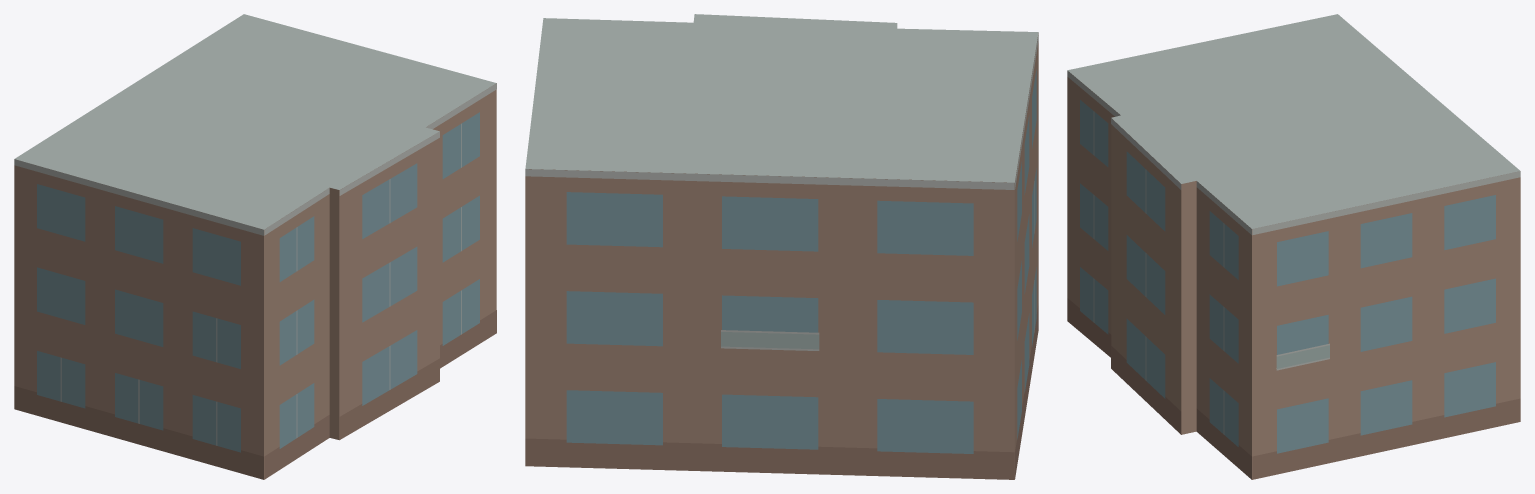
File: survey-upis-32970320.glb
The picture shows the model from 3 angles, left to right: view 1: azimuth 30°, elevation 25°; view 2: azimuth 150°, elevation 25°; view 3: azimuth 270°, elevation 25°; orthographic projection. The views are drawn at different scales.
Parts seen in each view (by area): view 1: survey-upis-32970320.tmp; view 2: survey-upis-32970320.tmp; view 3: survey-upis-32970320.tmp.
Boxes of the visible parts, x1,y1,x2,y2 form: survey-upis-32970320.tmp: (14, 14, 496, 479); survey-upis-32970320.tmp: (525, 14, 1038, 479); survey-upis-32970320.tmp: (1067, 14, 1520, 479).
Size of the model in its own units: 18.03 by 9.8 by 16.06.
